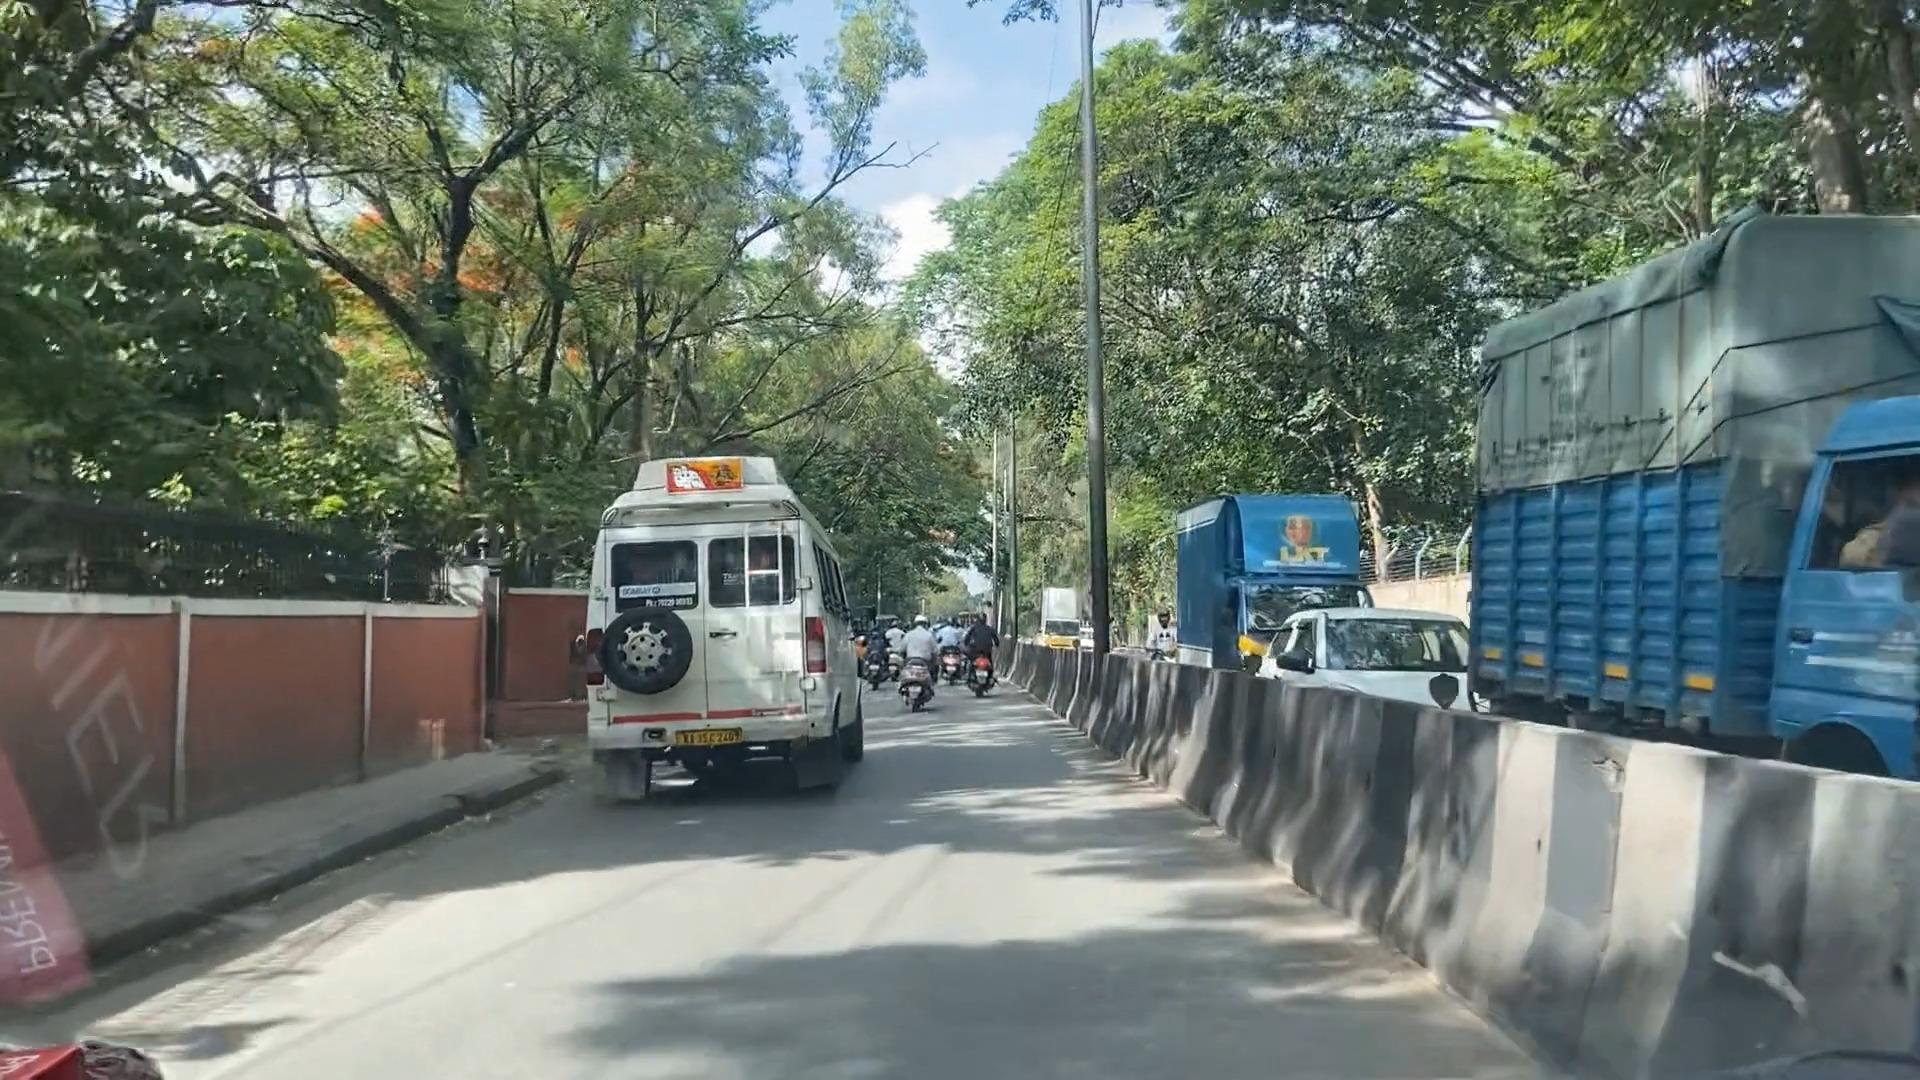HMV: (583, 443, 832, 791)
LMV: (893, 611, 945, 713), (960, 593, 1001, 666)
